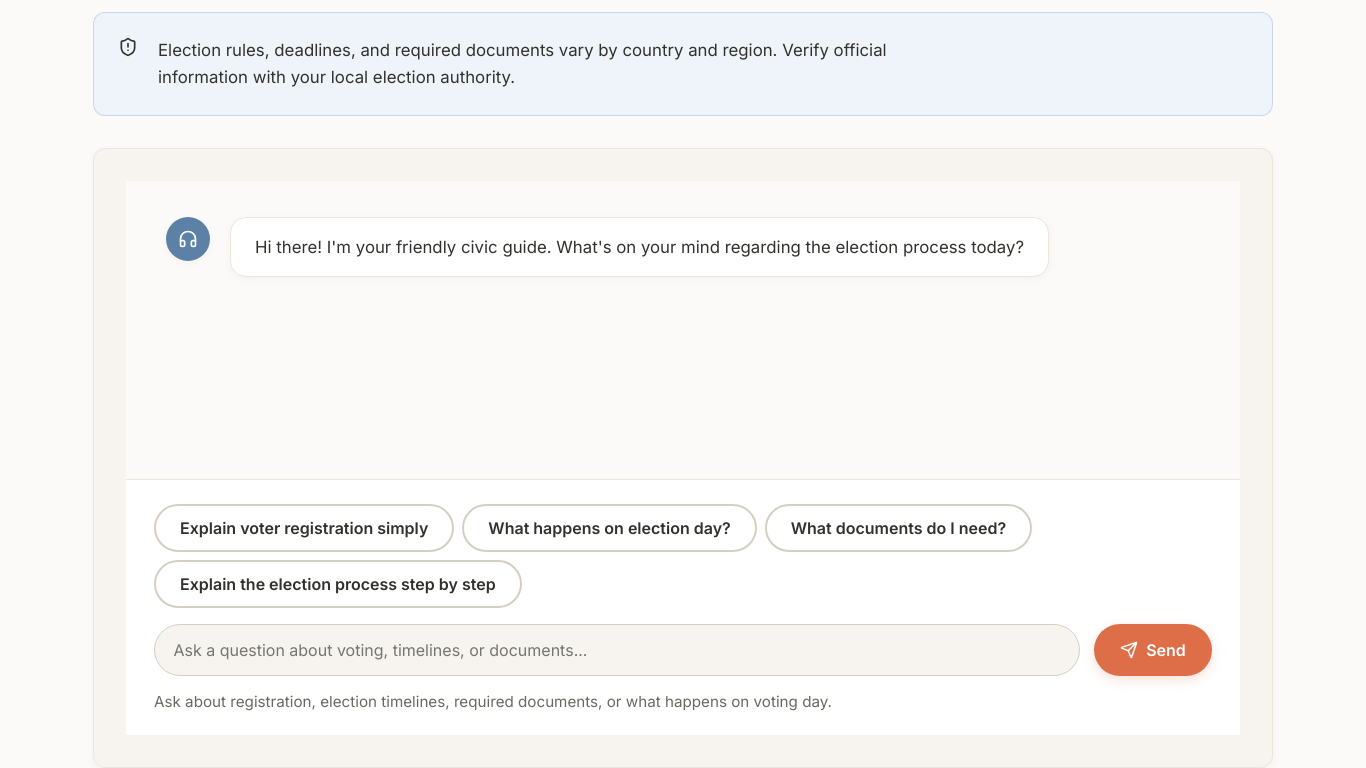
ChatAssistant › renders Gemini responses when the service succeeds
(page scrolled)
In the field named "ask the assistant a civic education question": (617, 650) x1=154 y1=624 x2=1080 y2=676, type "When should I register?"
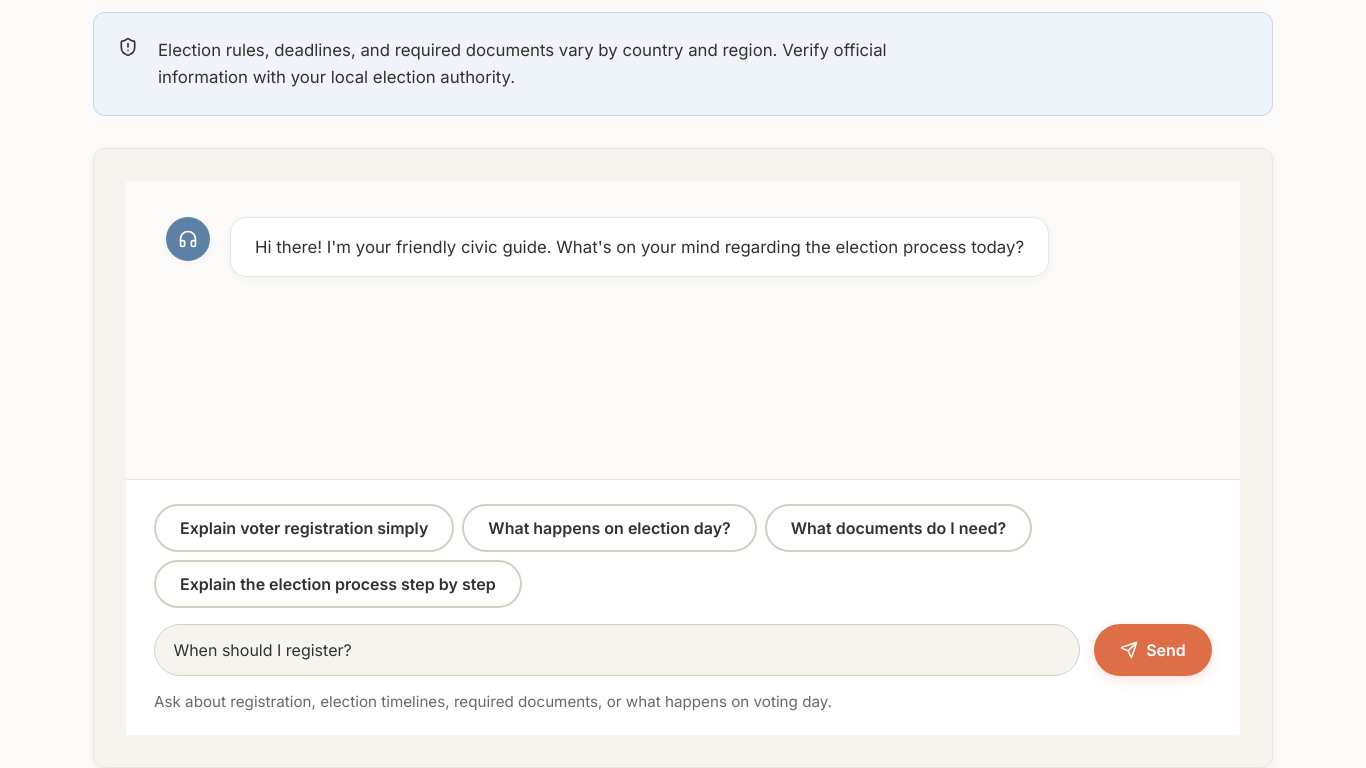
Click the button "Send": (1153, 650) x1=1094 y1=624 x2=1212 y2=676
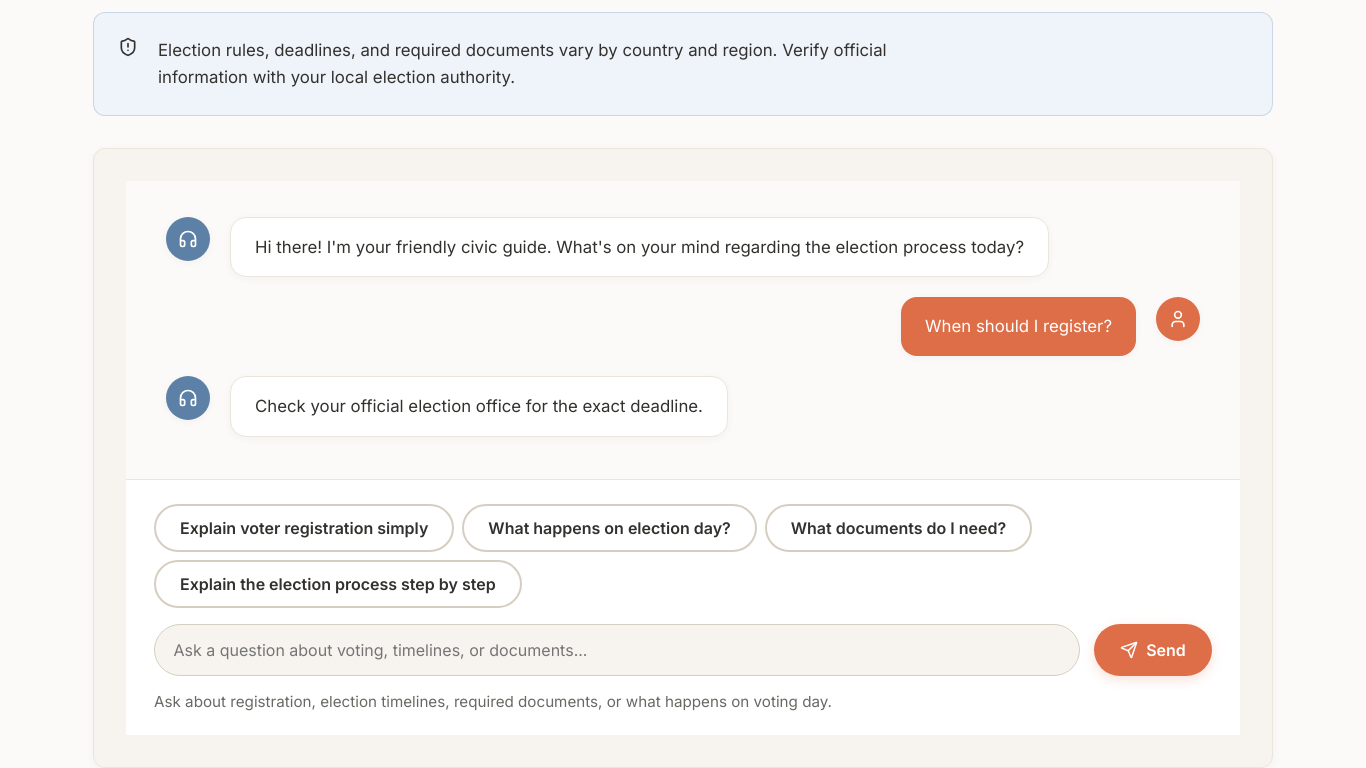
Expected: the text "Check your official election office for the exact deadline." is shown, x1=255 y1=393 x2=703 y2=420
